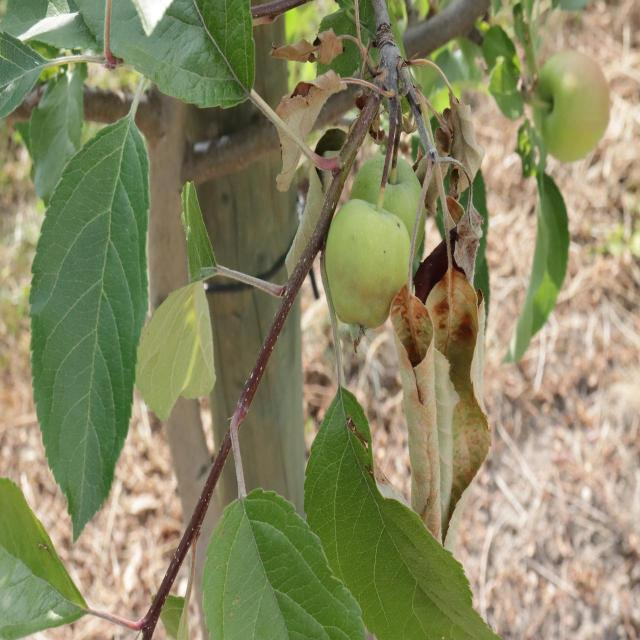-FireBlight-: (393, 45, 504, 539)
